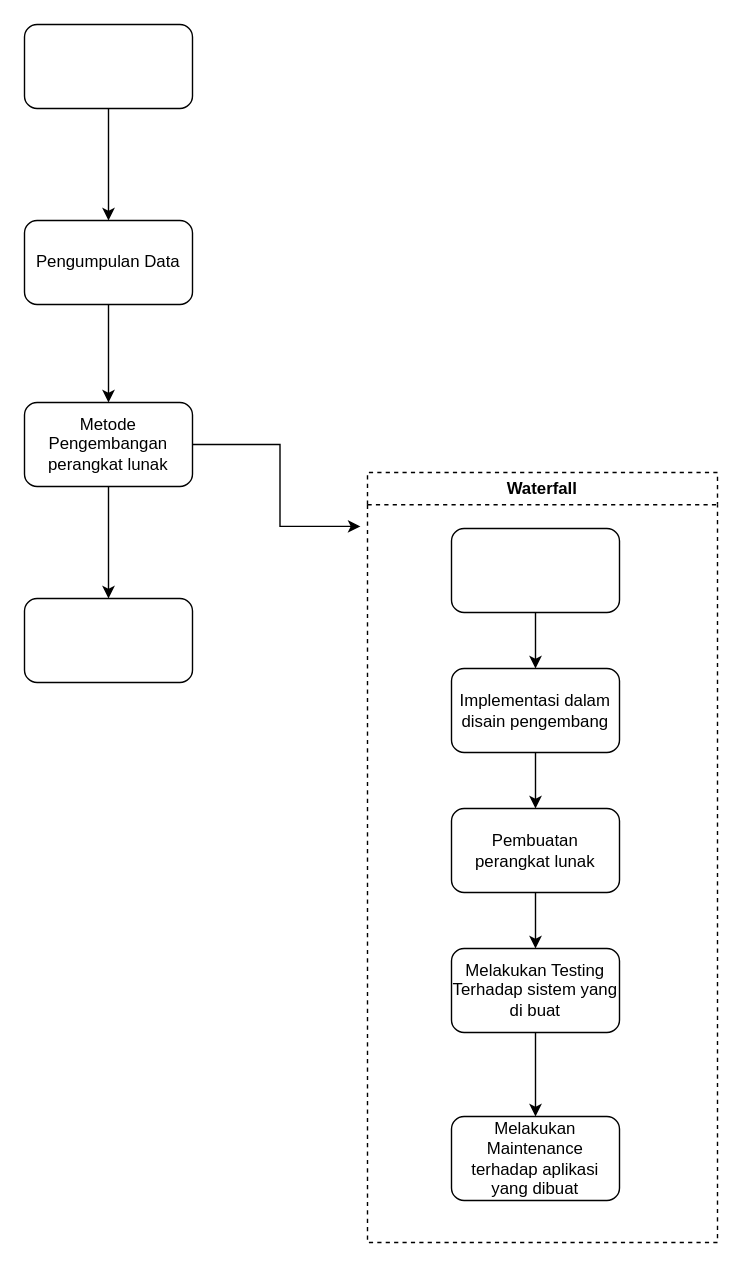
The diagram is 742 pixels wide and 1267 high, and some of its shapes have lost their labels. The centre of each missing label's shape, as x and y in pixels:
"Memahami Kebutuhan Pengguna" goes at point (535, 569).
"Mulai" goes at point (107, 65).
"Selesai" goes at point (107, 639).
